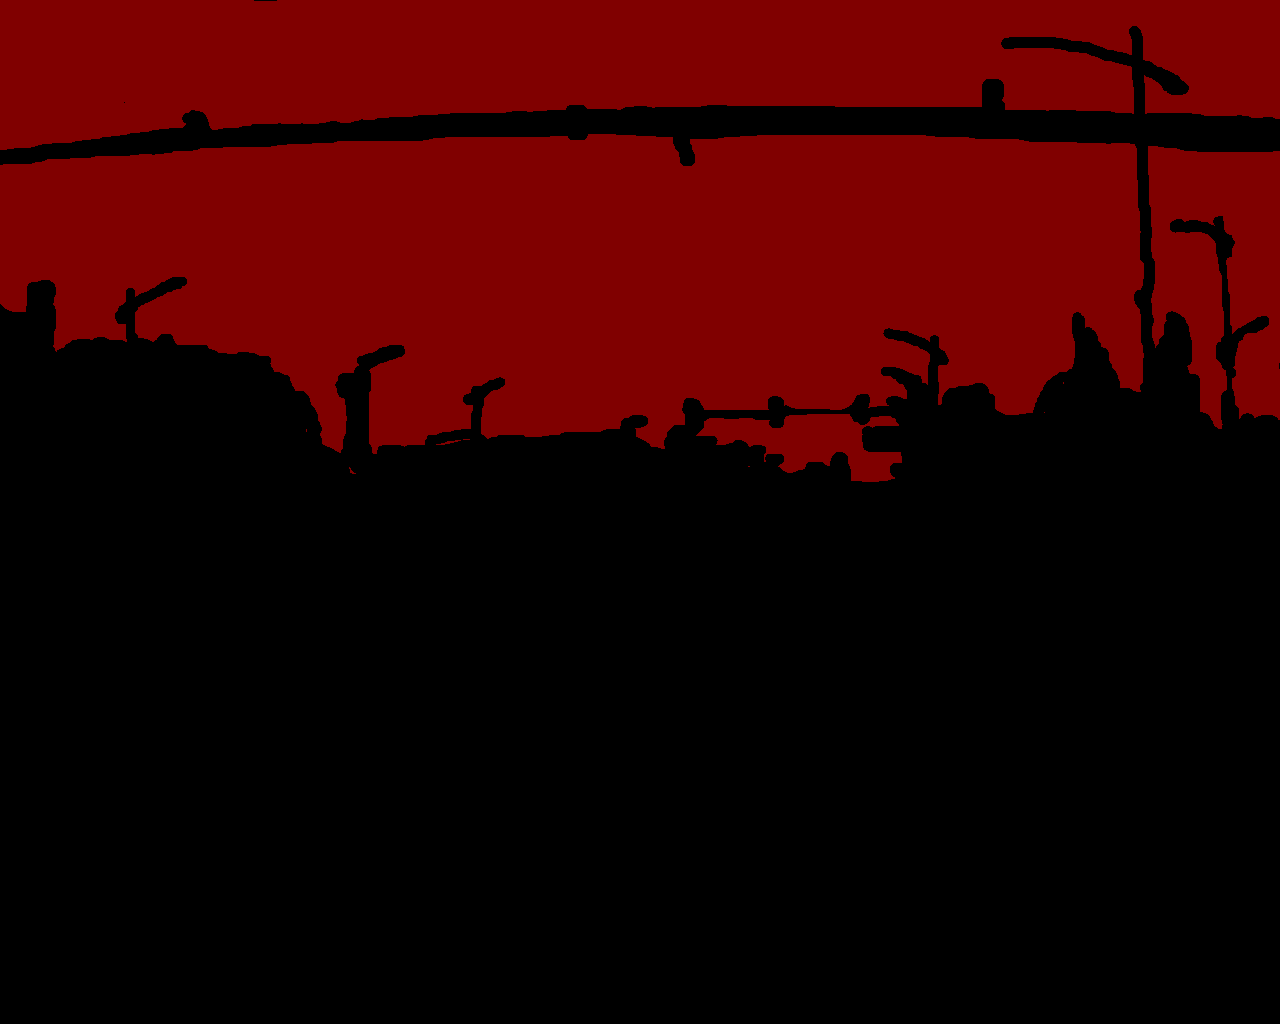Sky: (1, 1, 1279, 482)
